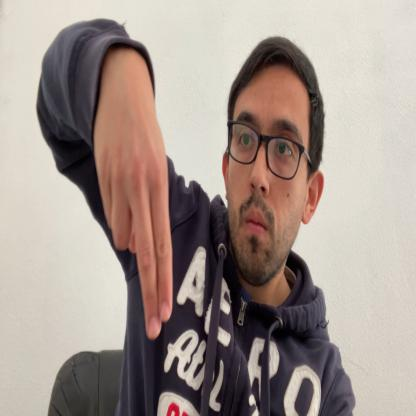N: (94, 97, 173, 341)
